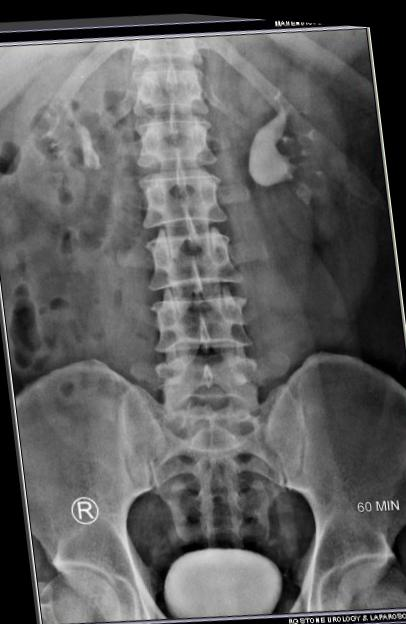bladder: (139, 543, 289, 623)
left kidney: (226, 25, 368, 256)
right kidney: (0, 44, 110, 242)
vertebrae: (121, 105, 215, 174)
